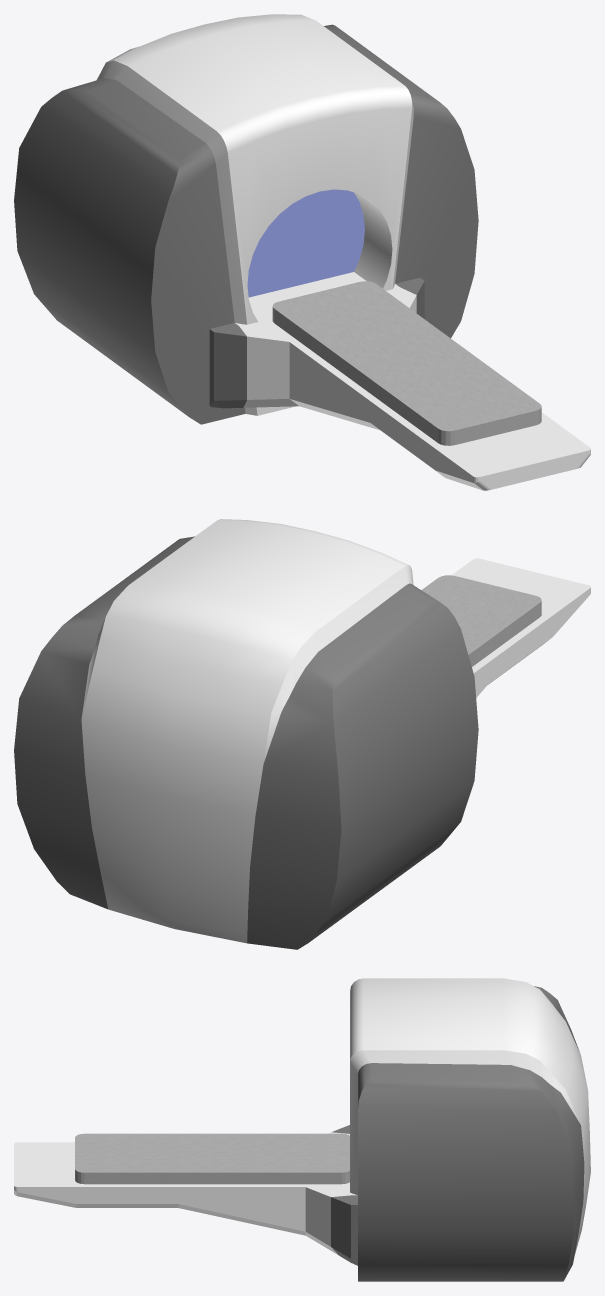
File: GammaKnife.fbx
The picture shows the model from 3 angles, top to bottom: view 1: azimuth 30°, elevation 25°; view 2: azimuth 150°, elevation 25°; view 3: azimuth 270°, elevation 25°; orthographic projection. The views are drawn at different scales.
Parts seen in each view (by area): view 1: GammaKnife; view 2: GammaKnife; view 3: GammaKnife.
Boxes of the visible parts, box(x1,y1,x2,y2) form: GammaKnife: box(14, 14, 590, 490); GammaKnife: box(14, 519, 590, 949); GammaKnife: box(14, 978, 590, 1281).
Size of the model in its own units: 229 by 198 by 445.
4 materials, 1 textured.
